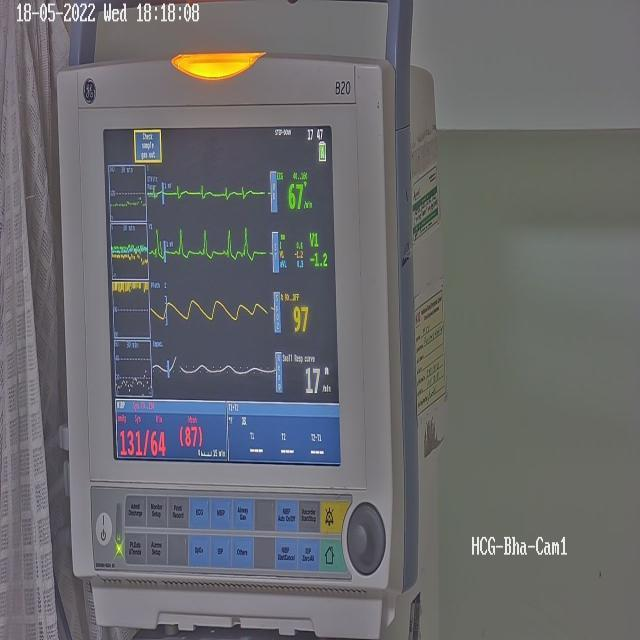Monitor: (56, 44, 412, 624)
